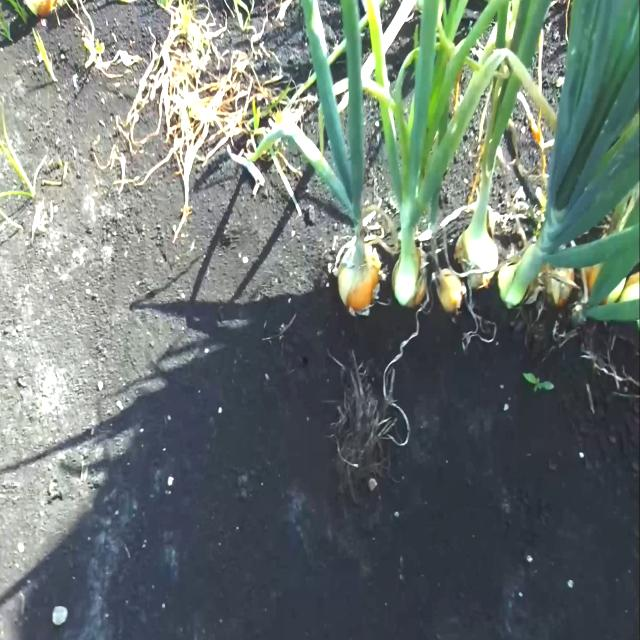onion: (338, 242, 382, 312), (392, 247, 428, 310), (458, 229, 497, 284), (435, 268, 466, 314)
